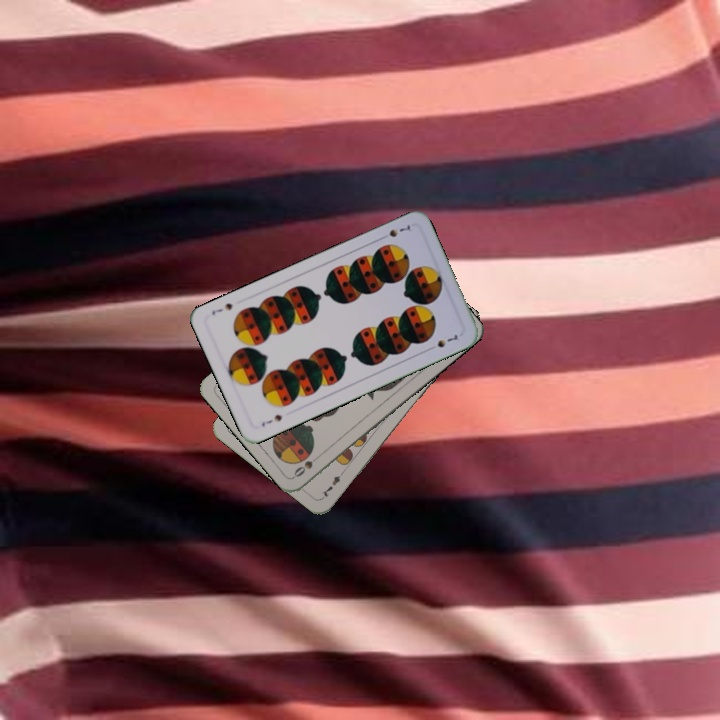E7: (317, 466, 347, 500)
S7: (376, 221, 415, 242), (257, 410, 285, 429)
SO: (290, 450, 324, 480)
